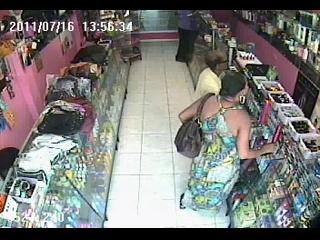Normal: (177, 70, 279, 222), (174, 94, 214, 158), (192, 50, 228, 101), (175, 10, 201, 65)
